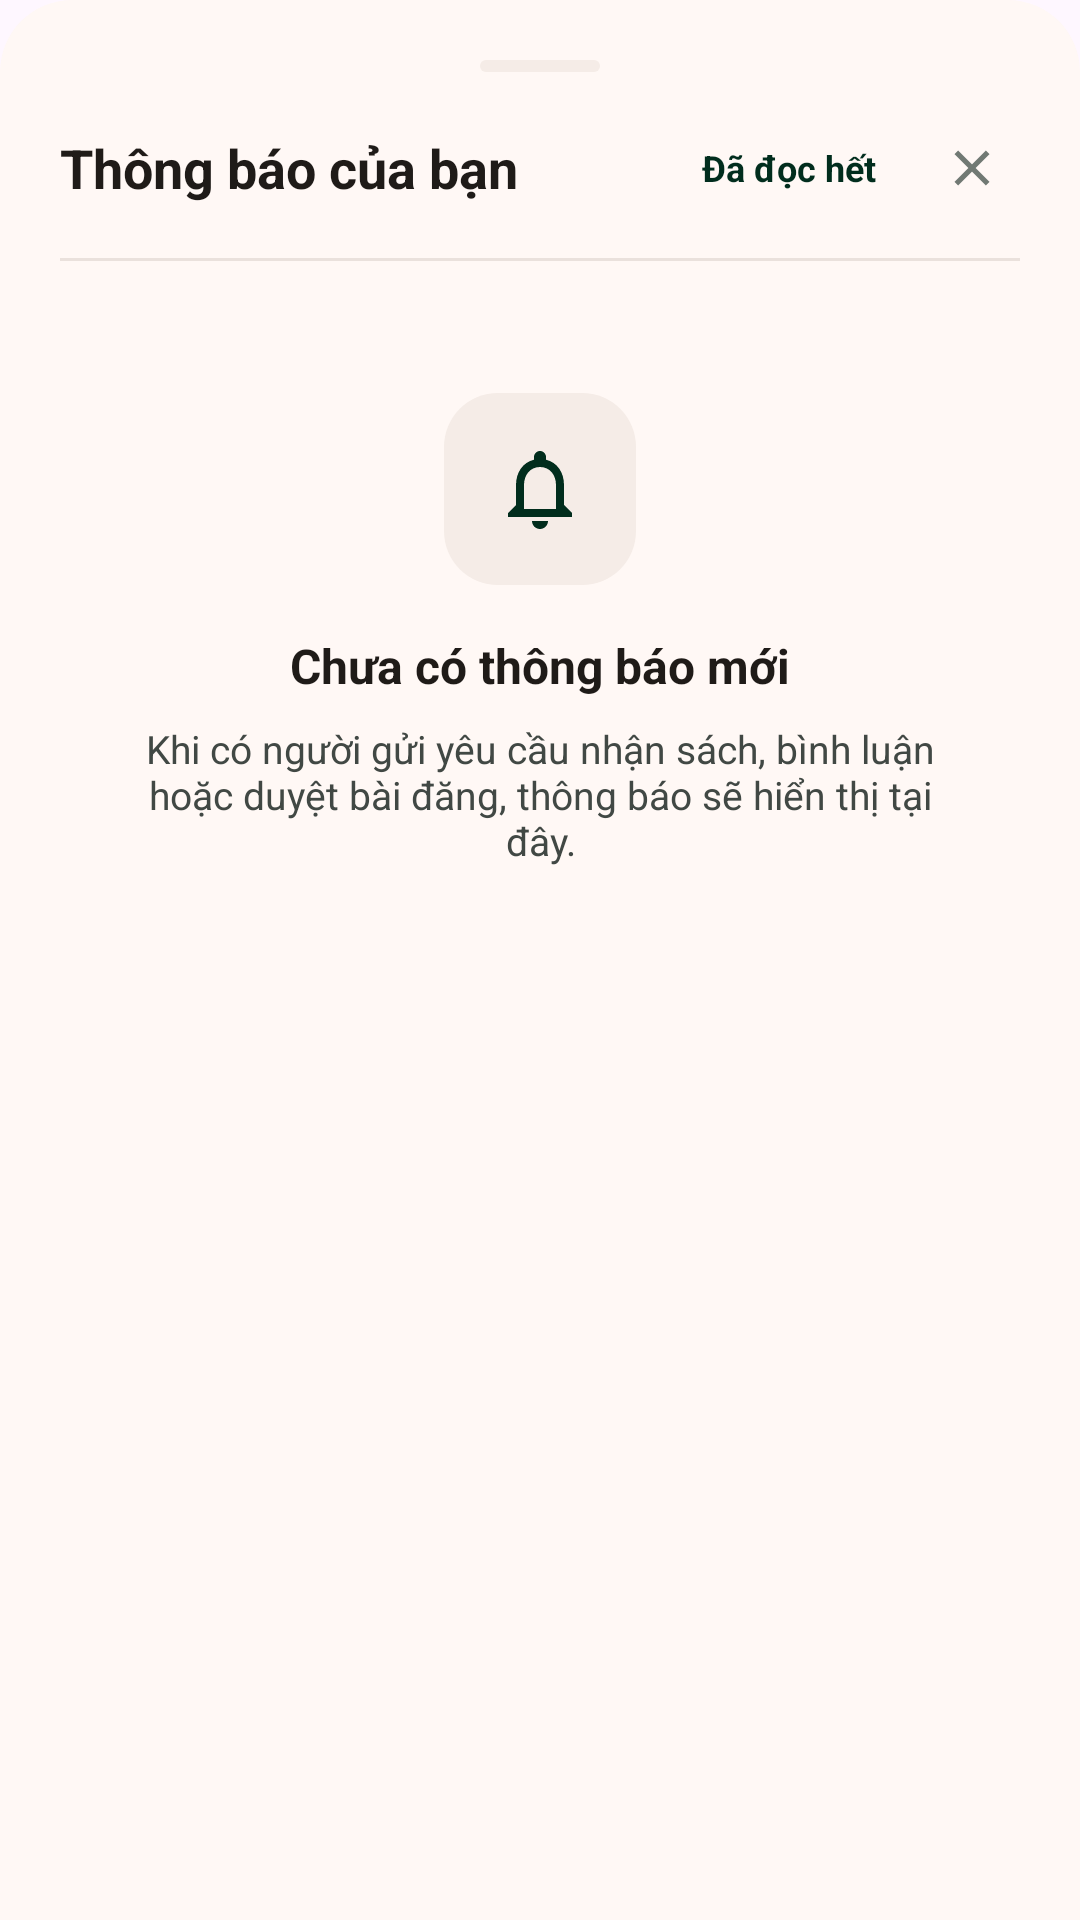

Where to tap for icons on this 1080×1920 app screen, as (x,y):
Bell: (540,489)
Đóng: (972,168)
